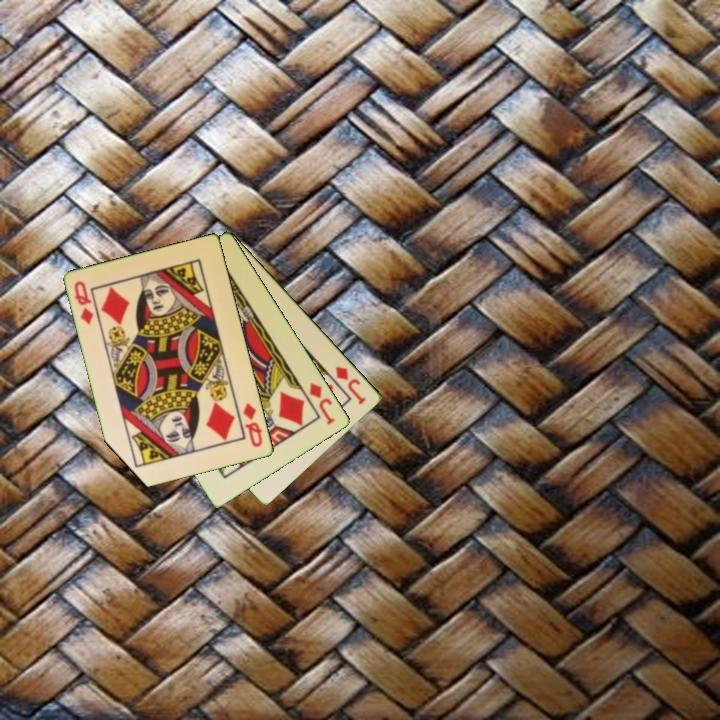Jd: (332, 363, 369, 408), (306, 379, 338, 428)
Qd: (239, 399, 266, 450), (71, 277, 97, 328)
